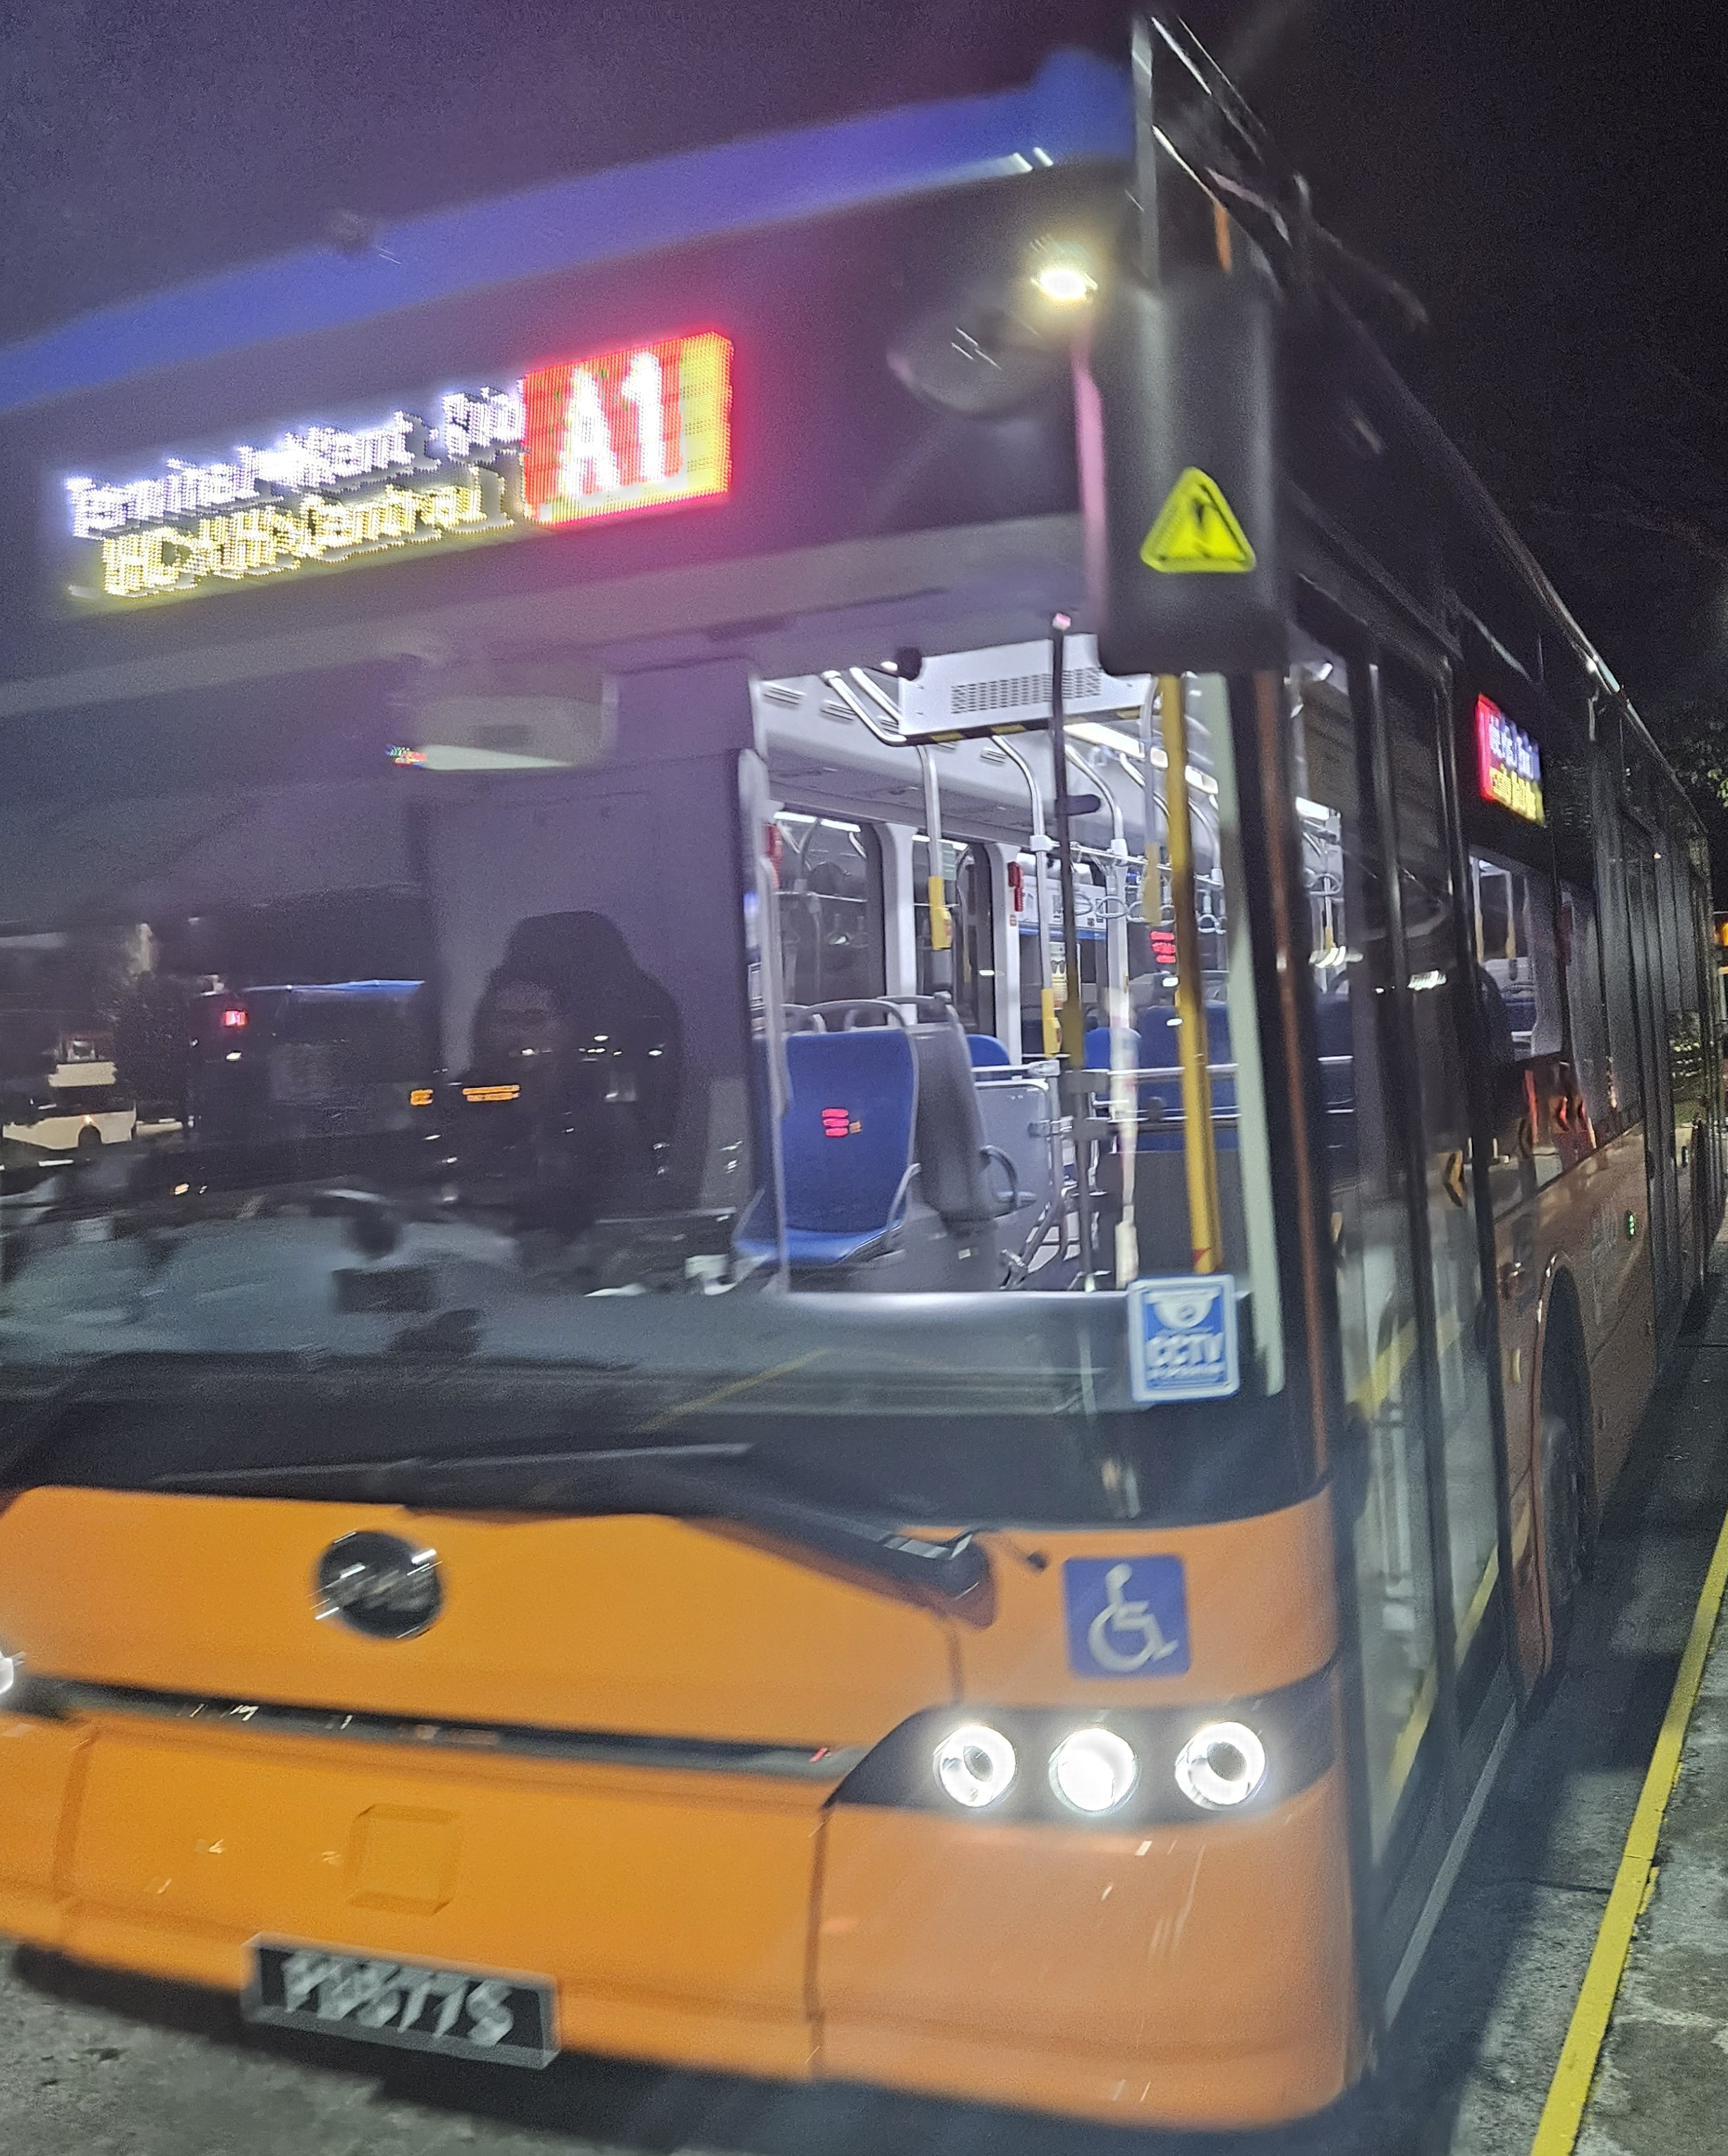bus: (511, 337, 735, 531)
